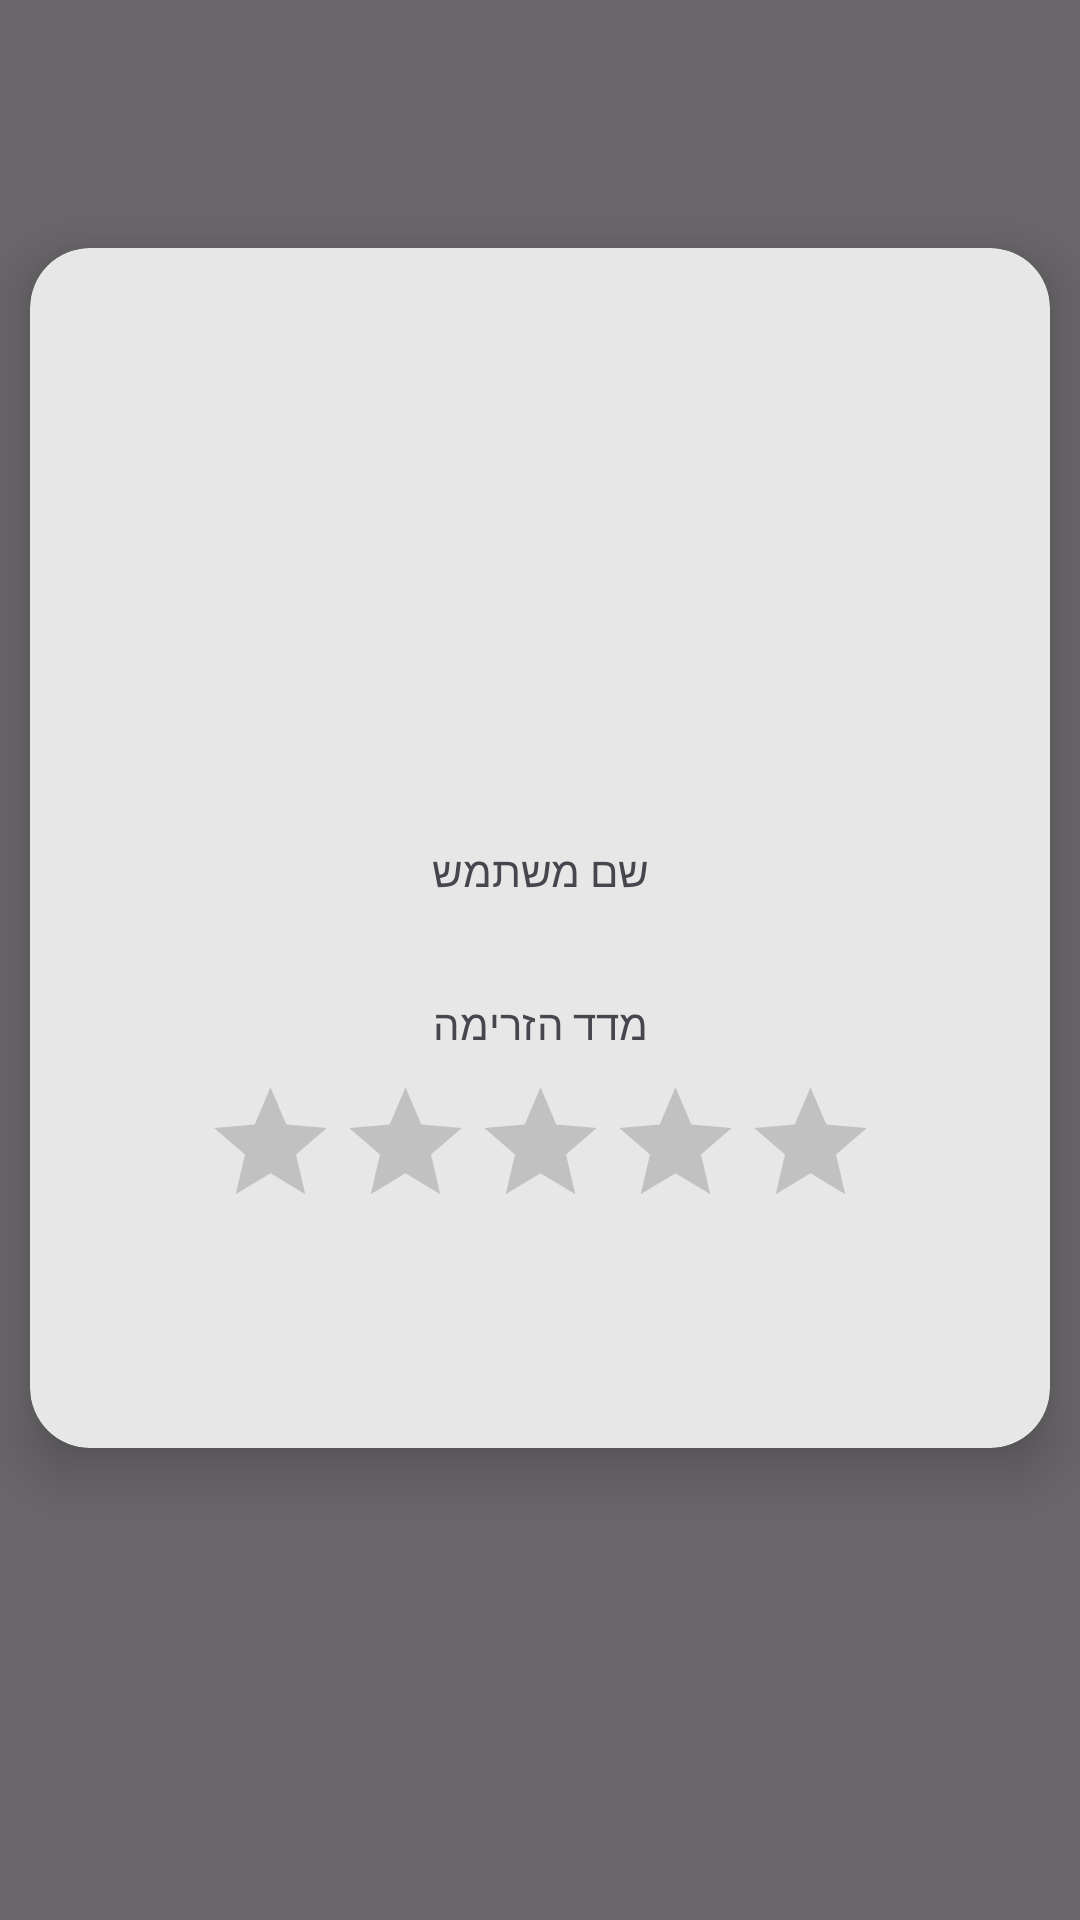

Icon bounding boxes for this 1080px×1920px phone screenshot, format detection(x1, y1, x2, y2):
star: detection(215, 1088, 326, 1194), detection(350, 1088, 461, 1194), detection(485, 1088, 596, 1194), detection(620, 1088, 731, 1194), detection(755, 1088, 866, 1194)
